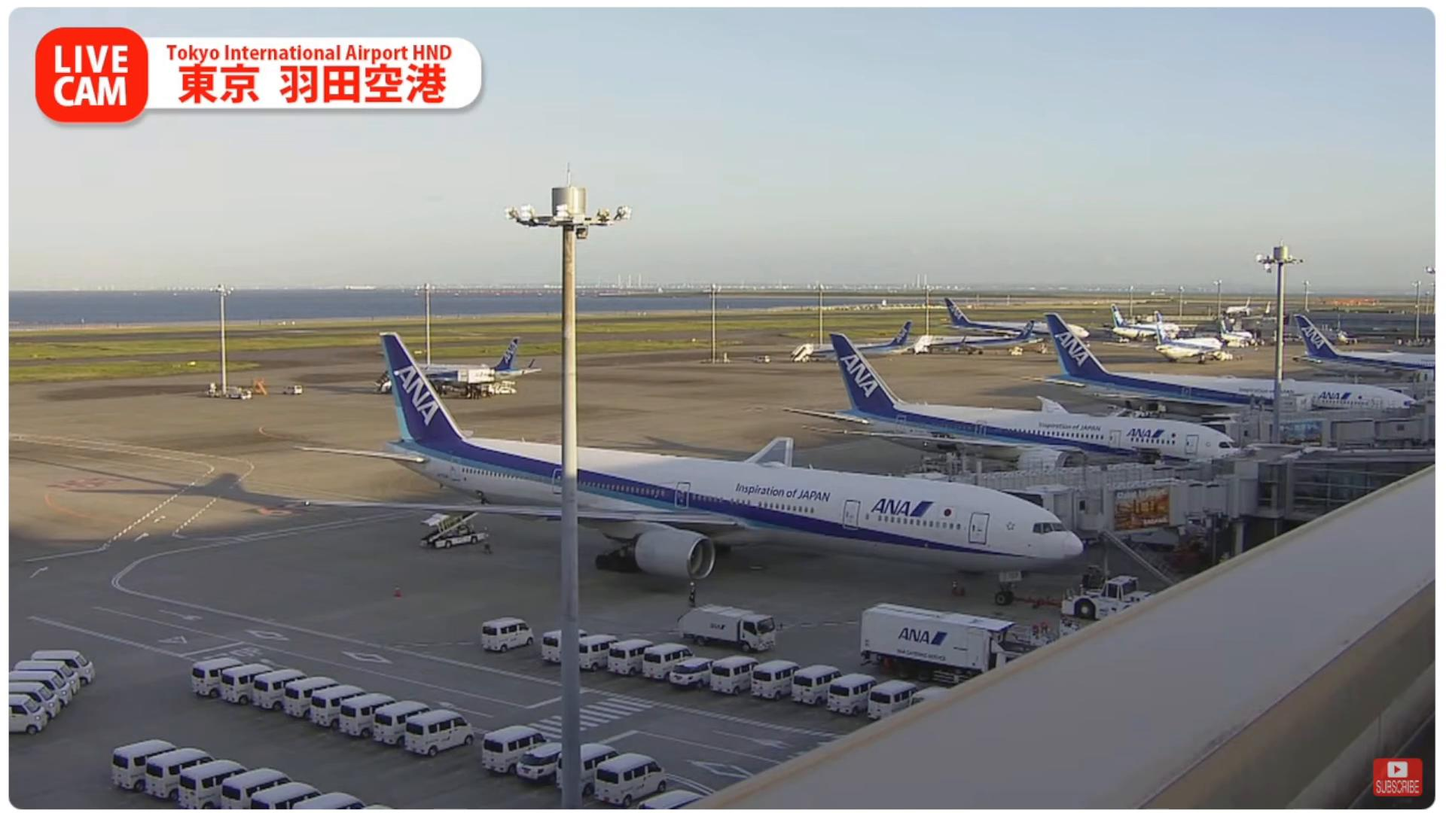APS: (1061, 574, 1160, 620)
Aerobridge: (990, 474, 1217, 523), (903, 458, 1204, 486)
Airplane: (290, 334, 1076, 584)
Baggage truck: (671, 601, 779, 653)
Catering: (861, 599, 1073, 685)
Skyloader: (424, 510, 487, 546)
Window: (1253, 443, 1435, 520)
